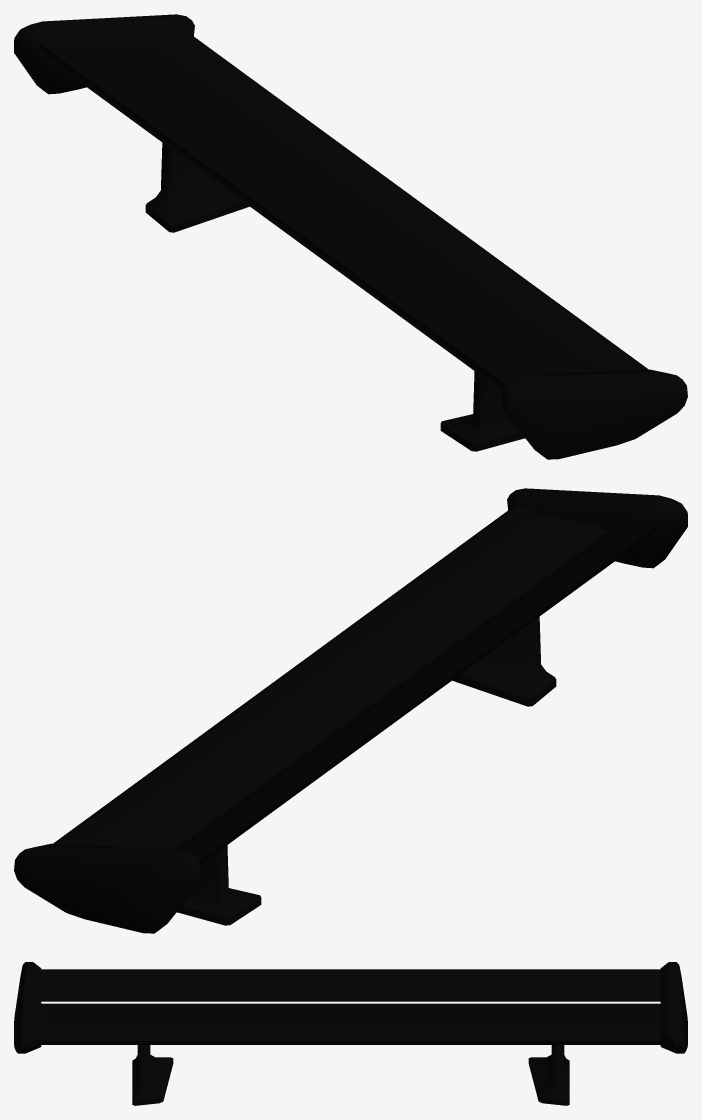
Rendered from gallo99_spoiler_gallo99_bodymat_0.001_lev3.glb.
The picture shows the model from 3 angles, top to bottom: view 1: azimuth 30°, elevation 25°; view 2: azimuth 150°, elevation 25°; view 3: azimuth 270°, elevation 25°; orthographic projection. The views are drawn at different scales.
Visible parts, largest first — view 1: gallo99_spoiler_gallo99_bodymat_0.001_lev3; view 2: gallo99_spoiler_gallo99_bodymat_0.001_lev3; view 3: gallo99_spoiler_gallo99_bodymat_0.001_lev3.
Part boxes in pixels (box(x1,y1,x2,y2)): gallo99_spoiler_gallo99_bodymat_0.001_lev3: box(14, 14, 687, 459); gallo99_spoiler_gallo99_bodymat_0.001_lev3: box(14, 488, 687, 933); gallo99_spoiler_gallo99_bodymat_0.001_lev3: box(14, 962, 687, 1105).
Bounding box in the file's own units: 0.3036 × 0.2134 × 1.44.
1 material, 1 textured.
